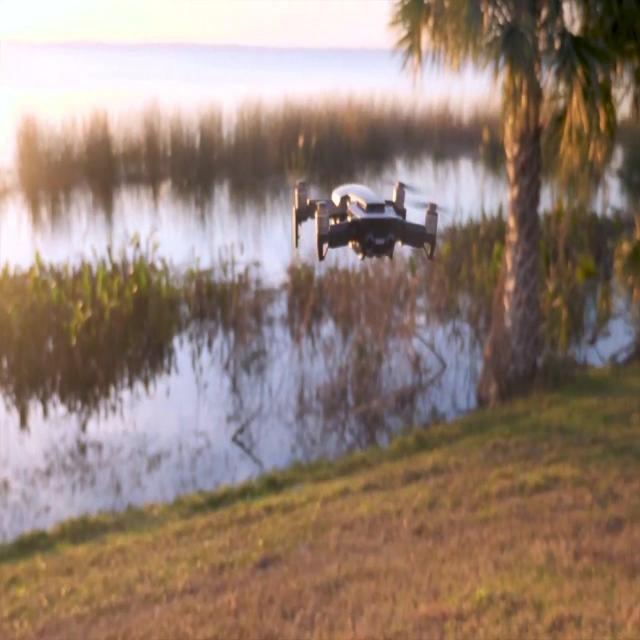UAV: (292, 180, 448, 262)
